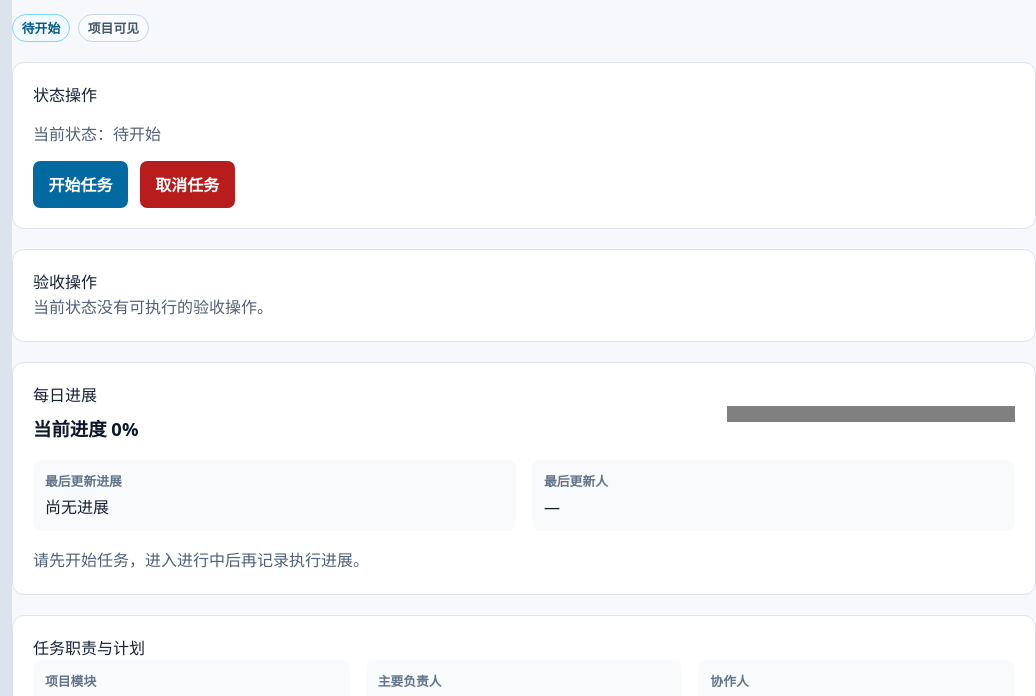
Test: 任务页面 › Major：start 成功后另一 actor 推进到 cancelled，页面显示最新一致状态
Click the button "开始任务" at (80, 185), box [33,161,128,208]
(page scrolled)
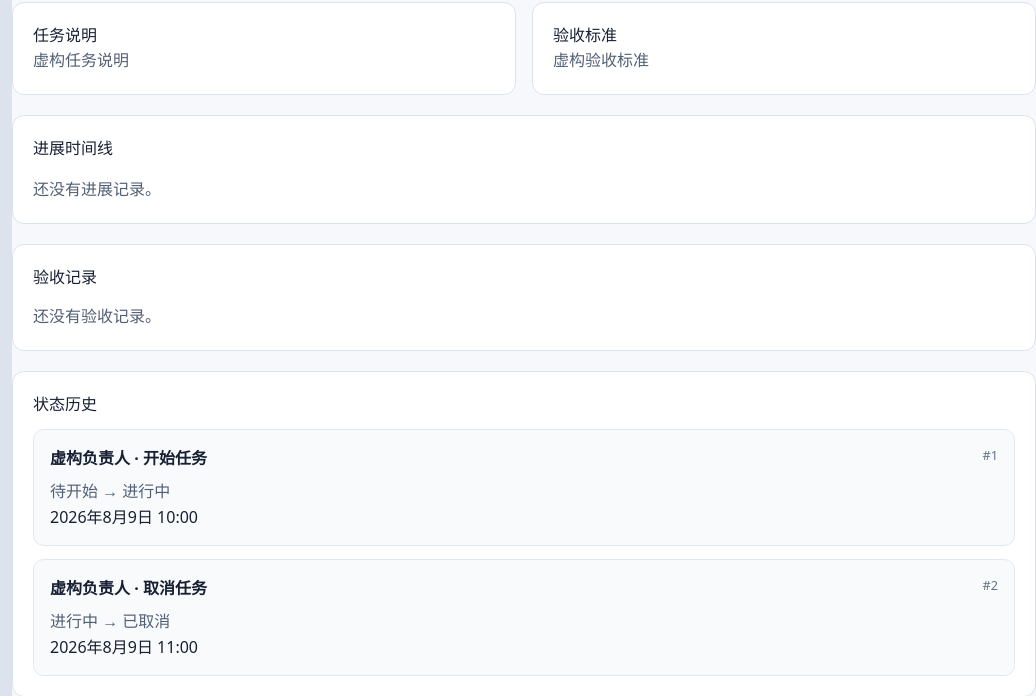
Check: the text "#1" is shown, box [982,446,998,466]
Check: the text "#2" is shown, box [982,576,998,596]
